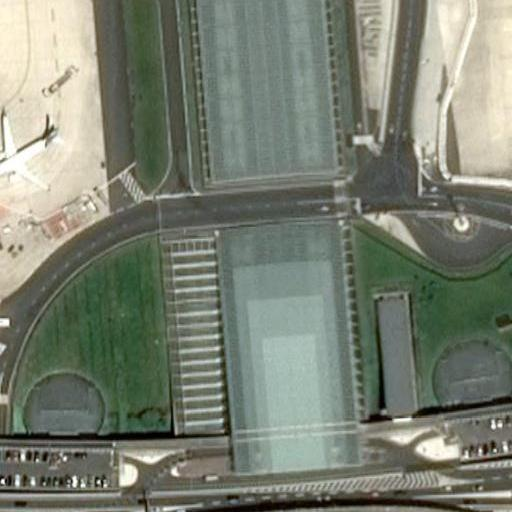Aircraft: (0, 100, 75, 201), (497, 0, 512, 19)
